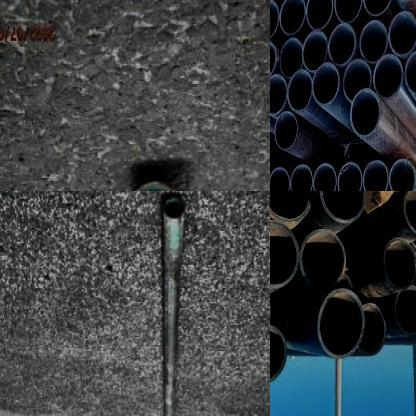pipe: (318, 288, 366, 359), (300, 229, 346, 291), (270, 219, 299, 287), (382, 237, 416, 290), (350, 87, 381, 138), (358, 304, 387, 356), (320, 191, 366, 222), (373, 54, 403, 100), (342, 58, 372, 102), (359, 20, 388, 64), (388, 10, 416, 55), (270, 191, 312, 221), (312, 62, 340, 106), (328, 24, 356, 66), (394, 285, 416, 335), (302, 30, 328, 72), (288, 69, 312, 112), (270, 325, 287, 385), (279, 38, 303, 80), (279, 0, 306, 35), (274, 111, 298, 150), (389, 158, 416, 191), (305, 0, 333, 31), (363, 159, 389, 191), (337, 161, 362, 191), (270, 74, 287, 115), (313, 162, 337, 191), (334, 0, 363, 23), (290, 164, 312, 191), (403, 191, 416, 236), (404, 50, 416, 96), (270, 166, 290, 191), (362, 0, 393, 16), (164, 196, 184, 218), (270, 0, 279, 40), (270, 40, 276, 80)
